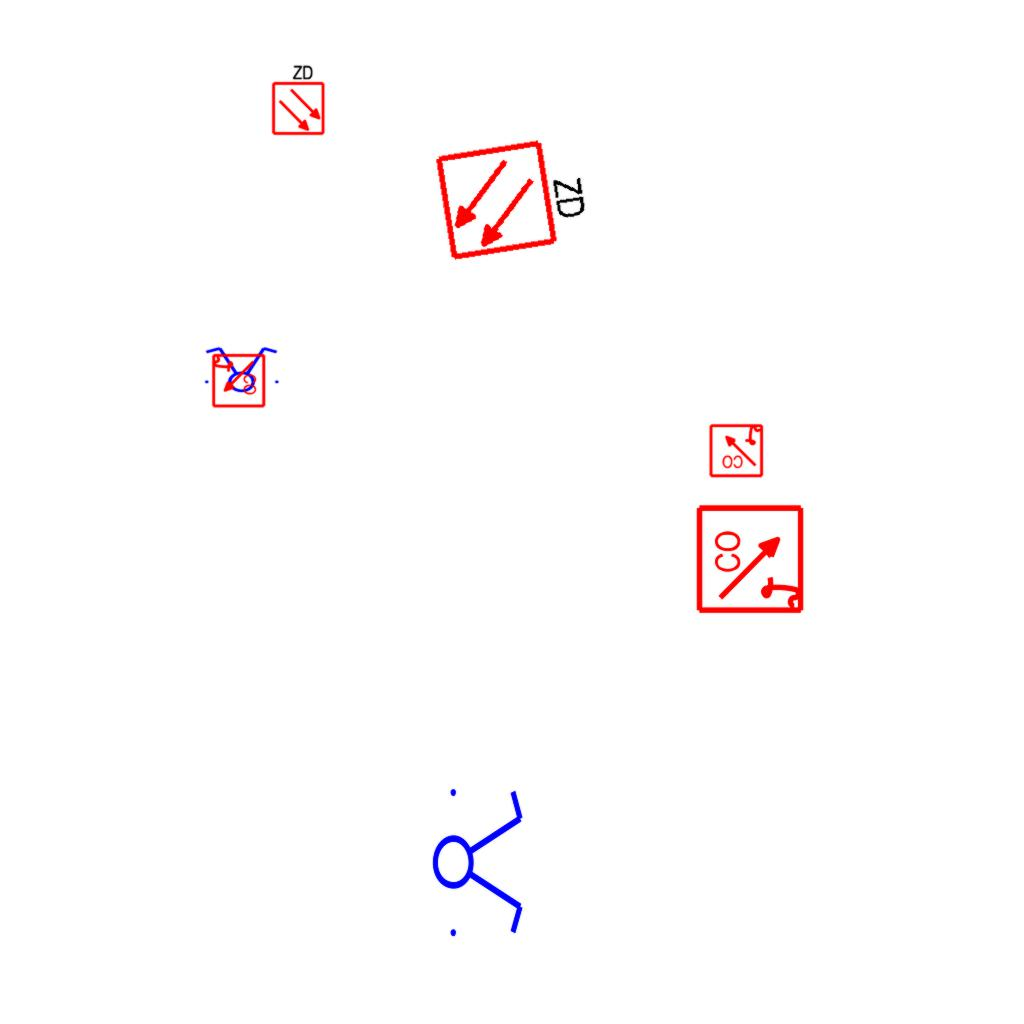ROA_Rauchmelder_optisch_mit_Signalgeber_(Sockelsirene): (695, 502, 808, 615), (708, 422, 764, 478), (210, 353, 266, 409)
Serienschalter: (431, 777, 527, 945), (199, 345, 283, 393)
ZD_Melder_in_Zwischendecke_mit_Revisionsoeffnung_mind_40_x_40_cm: (432, 127, 598, 264), (269, 62, 326, 136)
